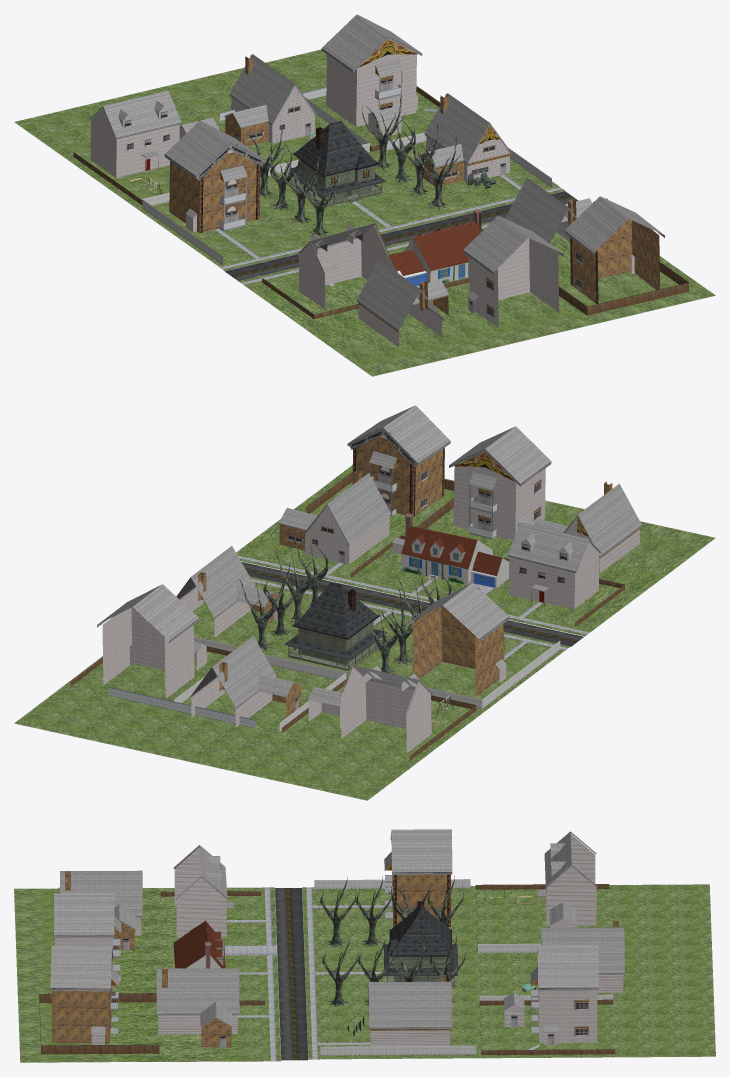
File: monster_house_mayville_map.glb
3 renders of one model, top to bottom at view 1: azimuth 30°, elevation 25°; view 2: azimuth 150°, elevation 25°; view 3: azimuth 270°, elevation 25°, orthographic. The views are drawn at different scales.
Parts seen in each view (by area): view 1: Object_24, Object_36, Object_38, Object_35, Object_8, Object_37, Object_4, Object_7, Object_12, Object_16, Object_18, Object_3 (+11 smaller); view 2: Object_24, Object_38, Object_36, Object_35, Object_37, Object_8, Object_4, Object_12, Object_3, Object_16, Object_7, Object_29 (+12 smaller); view 3: Object_24, Object_36, Object_38, Object_35, Object_12, Object_23, Object_37, Object_7, Object_4, Object_29, Object_25, Object_18 (+11 smaller).
Boxes of the visible parts, bbox=[...] form: Object_24: bbox=[14, 49, 715, 376]; Object_36: bbox=[103, 14, 508, 218]; Object_38: bbox=[90, 54, 509, 232]; Object_35: bbox=[300, 177, 592, 329]; Object_8: bbox=[169, 55, 463, 232]; Object_37: bbox=[298, 219, 634, 347]; Object_4: bbox=[285, 120, 386, 206]; Object_7: bbox=[419, 199, 659, 315]; Object_12: bbox=[463, 196, 663, 301]; Object_16: bbox=[468, 238, 559, 327]; Object_18: bbox=[243, 96, 460, 237]; Object_3: bbox=[387, 209, 482, 285]; Object_24: bbox=[14, 465, 715, 800]; Object_38: bbox=[102, 588, 506, 752]; Object_36: bbox=[98, 546, 508, 710]; Object_35: bbox=[279, 473, 641, 591]; Object_37: bbox=[305, 506, 639, 609]; Object_8: bbox=[197, 572, 504, 717]; Object_4: bbox=[284, 582, 387, 670]; Object_12: bbox=[349, 405, 550, 545]; Object_3: bbox=[401, 513, 509, 587]; Object_16: bbox=[453, 466, 545, 540]; Object_7: bbox=[279, 437, 612, 550]; Object_29: bbox=[174, 636, 560, 731]; Object_24: bbox=[14, 884, 715, 1062]; Object_36: bbox=[368, 829, 624, 1031]; Object_38: bbox=[370, 834, 623, 1046]; Object_35: bbox=[59, 845, 239, 1025]; Object_12: bbox=[50, 893, 121, 1032]; Object_23: bbox=[275, 888, 307, 1060]; Object_37: bbox=[91, 847, 237, 1044]; Object_7: bbox=[52, 871, 231, 1047]; Object_4: bbox=[383, 901, 457, 987]; Object_29: bbox=[314, 879, 613, 1055]; Object_25: bbox=[239, 887, 384, 1061]; Object_18: bbox=[319, 875, 466, 1006].
Bounding box in the file's own units: 90.88 × 22.6 × 157.
37 materials, 36 textured.
